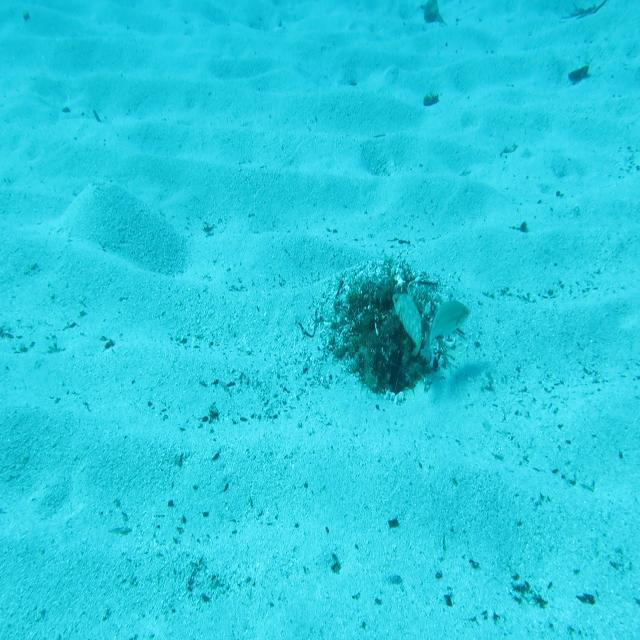ROLL: (390, 290, 424, 362)
female: (423, 298, 474, 368)
nest: (328, 259, 465, 397)
